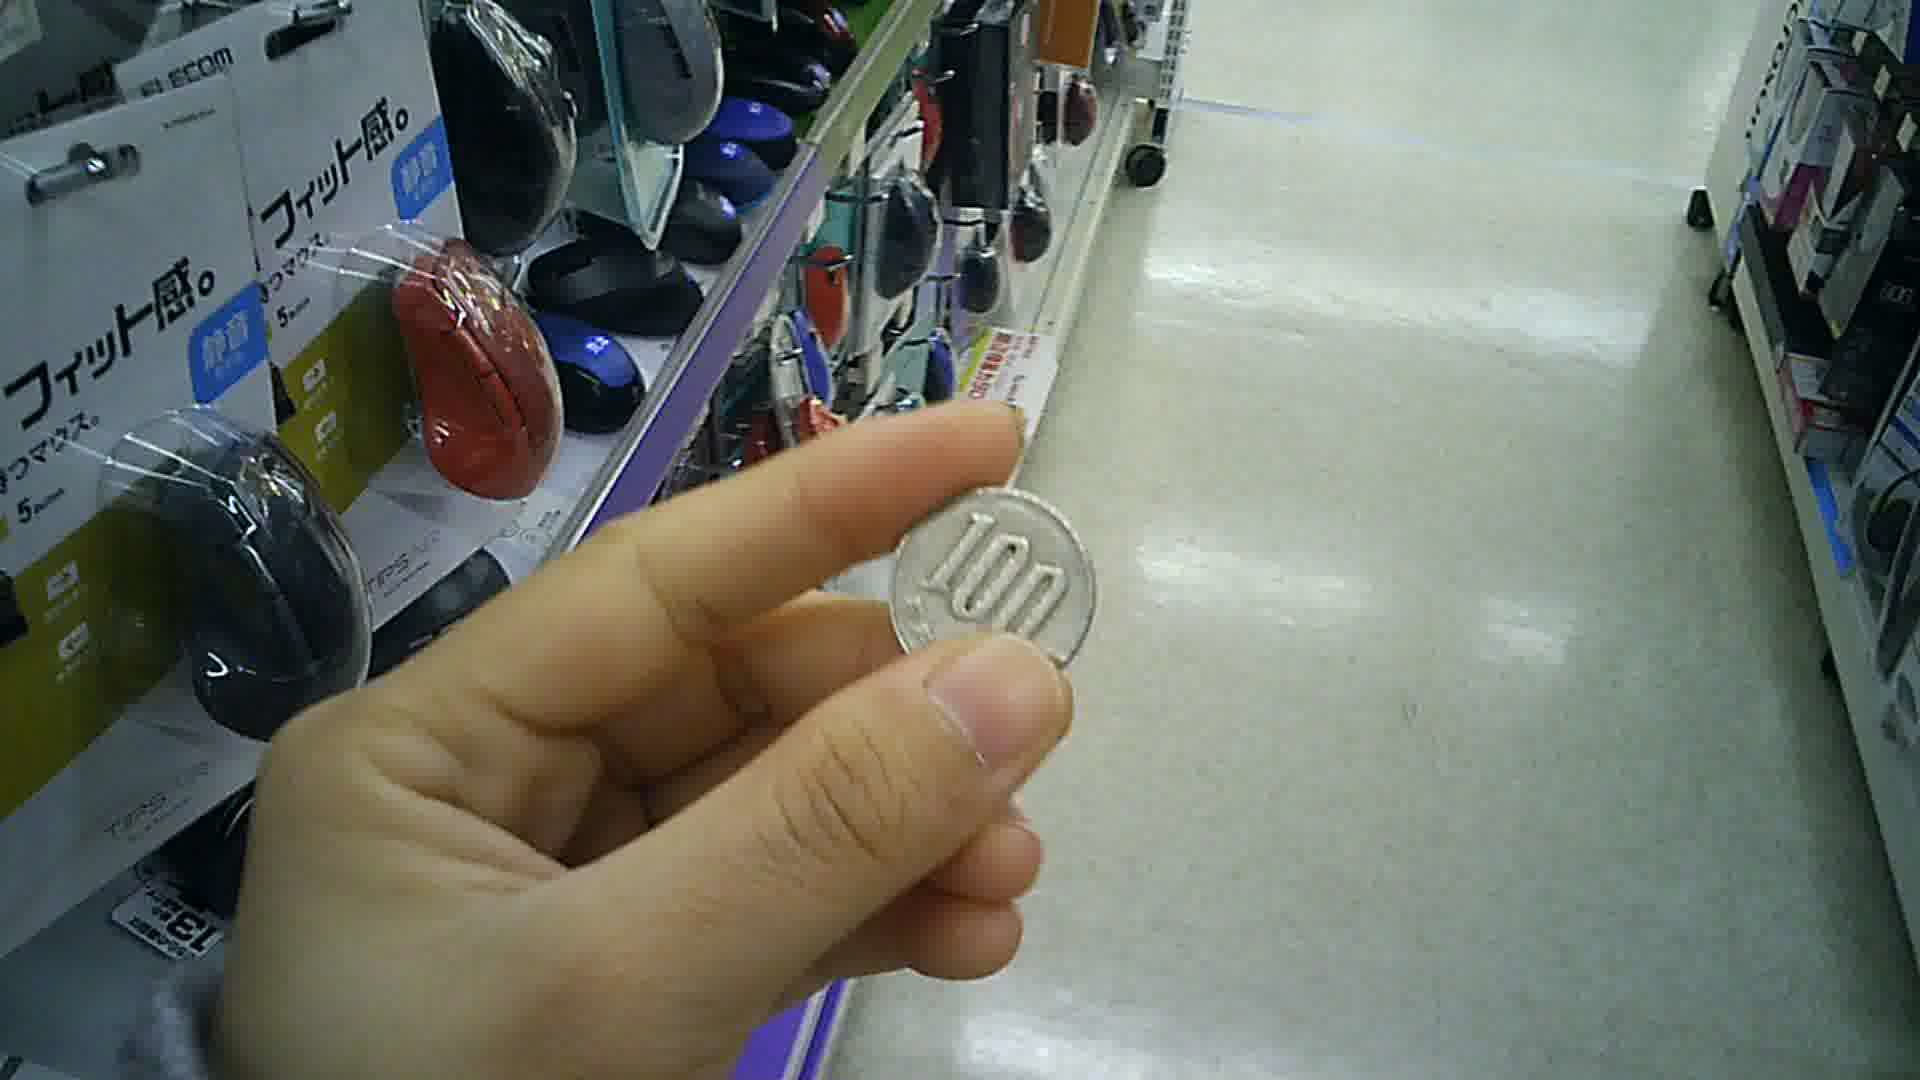100 Yen: (873, 481, 1101, 679)
